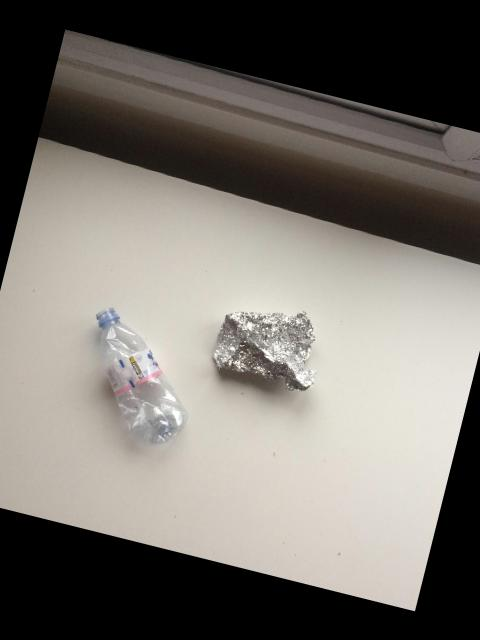metal: (212, 312, 314, 390)
plastic: (95, 308, 186, 443)
